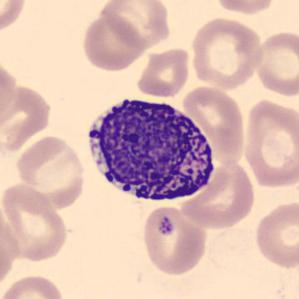Basophil: (80, 90, 222, 208)
Platelets: (150, 208, 182, 239)
RBC: (177, 156, 258, 232), (188, 15, 266, 91), (0, 180, 69, 263), (180, 84, 248, 166), (13, 133, 87, 208), (240, 96, 298, 190), (140, 203, 210, 277), (80, 12, 148, 73), (99, 0, 173, 50), (252, 198, 299, 270), (0, 88, 50, 152), (253, 28, 298, 99), (135, 46, 192, 100), (0, 272, 66, 298), (0, 56, 17, 128), (212, 0, 278, 16), (0, 0, 29, 36)
